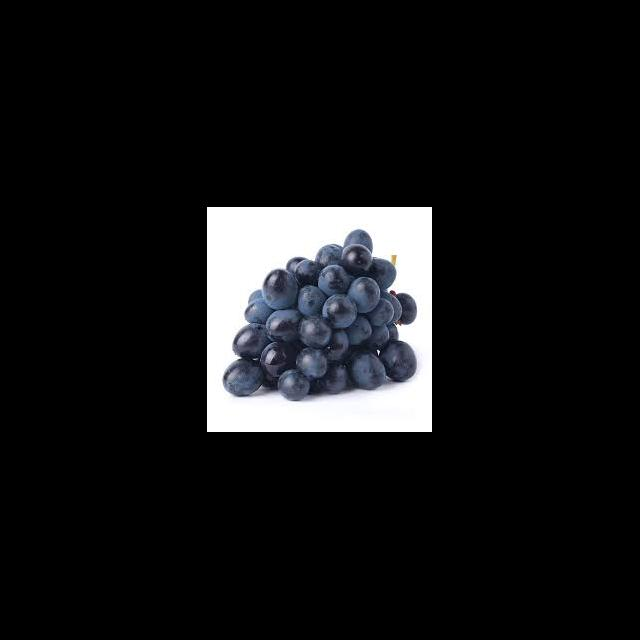grape: (222, 228, 418, 400)
